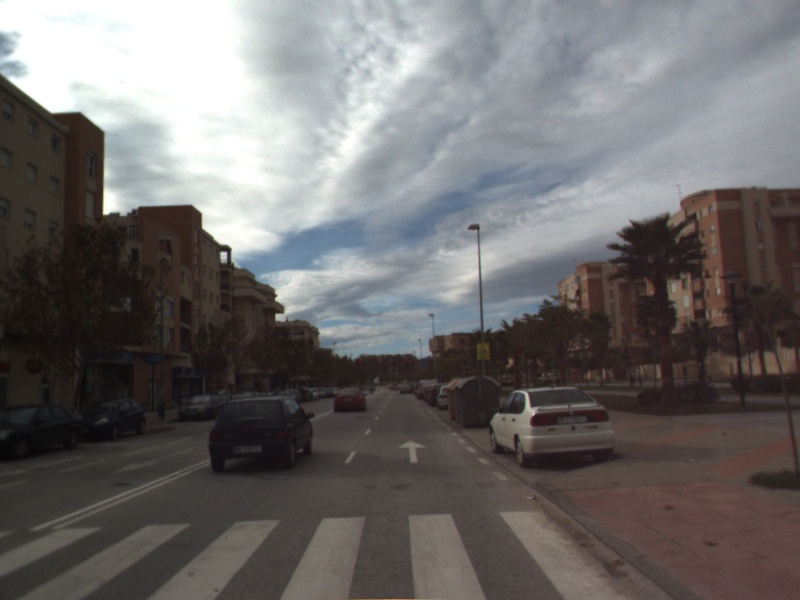STRAIGHT: (397, 437, 429, 465)
